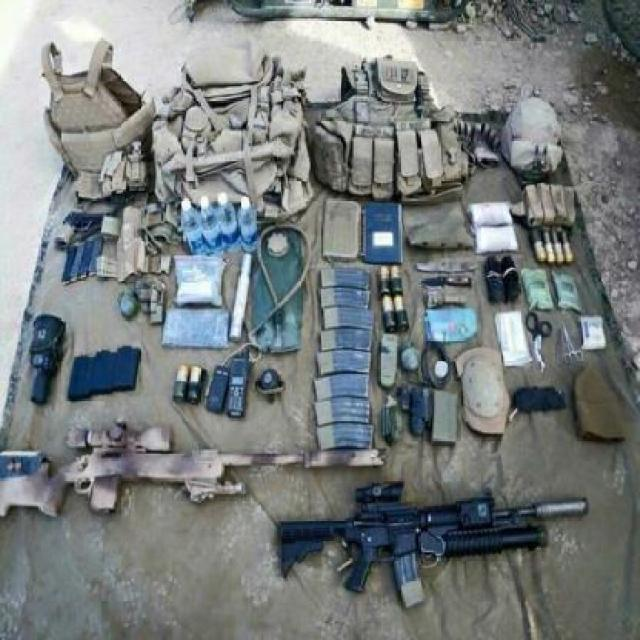Grenade: (117, 286, 140, 322)
Gun: (277, 476, 591, 616), (0, 412, 386, 520)
Knife: (417, 255, 478, 291)
